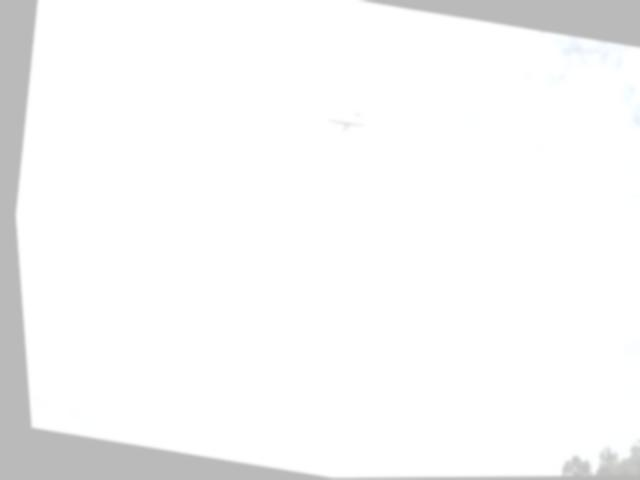uav: (314, 94, 374, 144)
